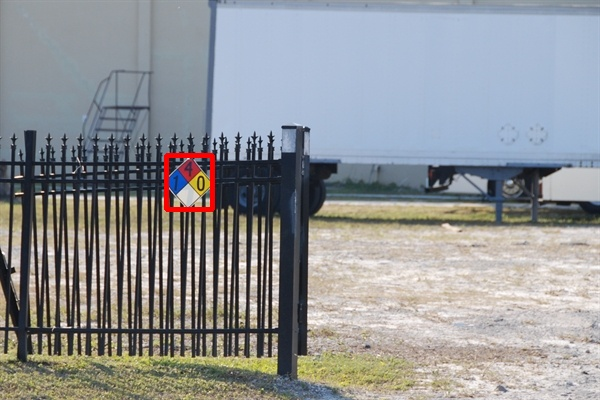nfpa: (166, 155, 212, 209)
